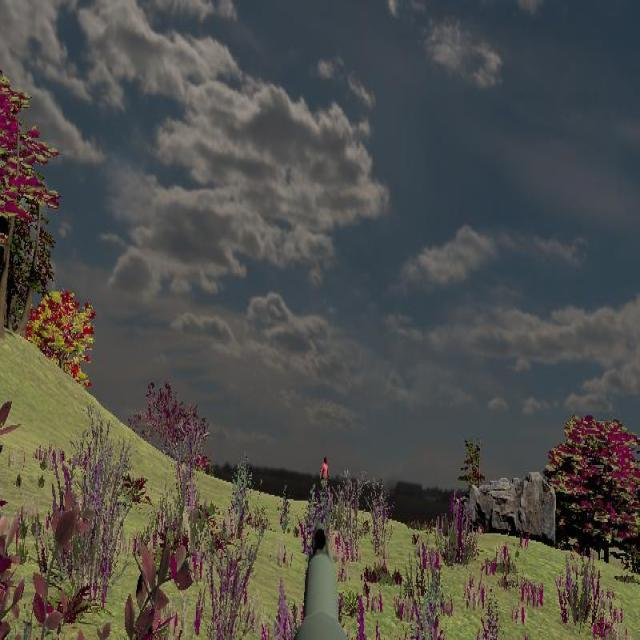Human: (320, 455, 330, 508)
